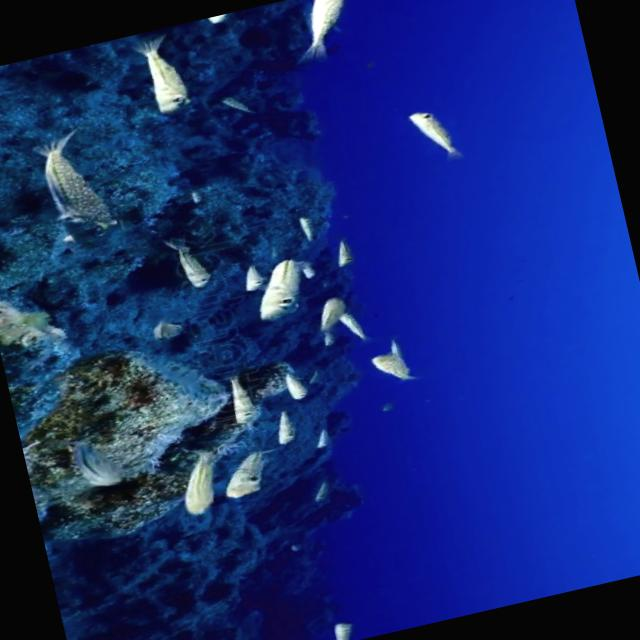Balon Baligi: (22, 123, 129, 252), (118, 25, 205, 123), (44, 425, 136, 503), (244, 245, 326, 325), (284, 0, 365, 62), (160, 232, 228, 296), (402, 100, 464, 167), (171, 449, 220, 521), (219, 448, 286, 499), (218, 369, 268, 425), (366, 344, 418, 387), (268, 406, 306, 456), (272, 365, 316, 405), (313, 611, 366, 640), (306, 474, 342, 508), (338, 309, 372, 343), (329, 232, 360, 268), (308, 419, 338, 454)
